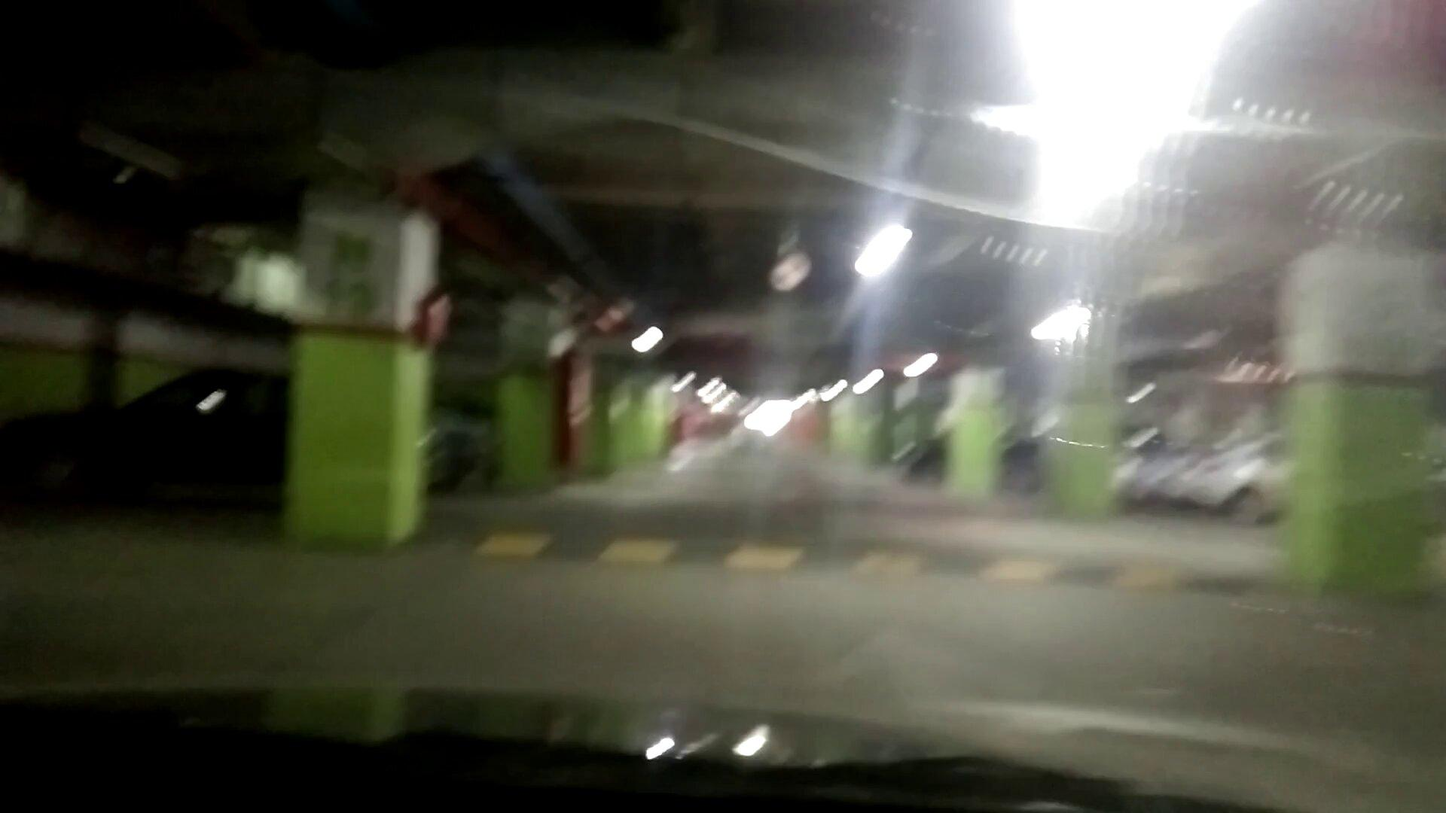Bump: (401, 523, 1306, 600)
